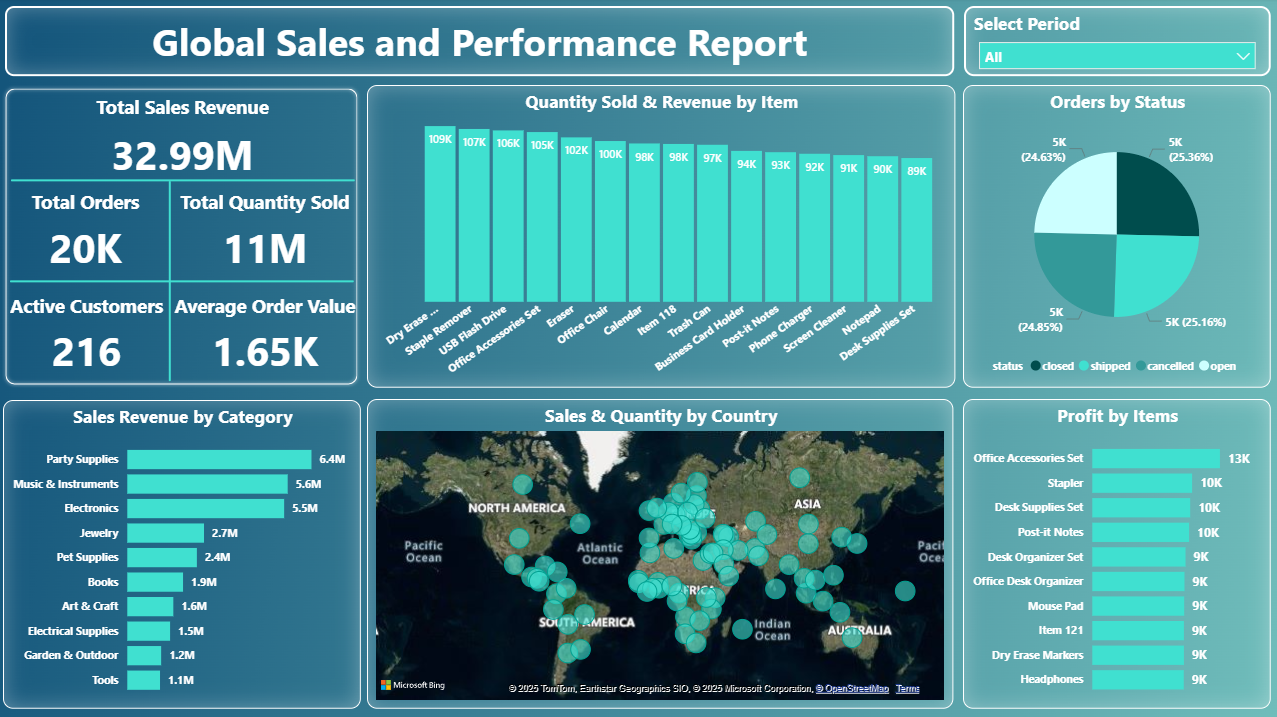

The dashboard page shown, as its layout file describes it:
{"tool":"powerbi","page":{"name":"Page 1","canvas":[1280,720],"ordinal":0},"visuals":[{"type":"card","title":"Total Sales Revenue","fields":{"Values":["Category-Ref.Total Sales Revenue"]},"box":[6,95.8,358.2,94.8],"z":0},{"type":"card","title":"Total Orders","fields":{"Values":["Category-Ref.Number of Orders"]},"box":[5,190.6,166.6,89.8],"z":1000},{"type":"card","title":"Total Quantity Sold","fields":{"Values":["Category-Ref.Total Quantity Sold"]},"box":[171.6,190.6,191.6,89.8],"z":2000},{"type":"card","title":"Active Customers","fields":{"Values":["Category-Ref.Active Customers"]},"box":[6,294.3,166.6,87.8],"z":3000},{"type":"card","title":"Average Order Value","fields":{"Values":["Category-Ref.Average Order Value"]},"box":[171.6,294.3,191.6,87.8],"z":4000},{"type":"clusteredBarChart","title":"Sales Revenue by Category","fields":{"Category":["Category-Ref.cat_name"],"Y":["Category-Ref.Total Sales Revenue"]},"box":[6,401.1,357.2,308.3],"z":5000},{"type":"columnChart","title":"Quantity Sold & Revenue by Item","fields":{"Category":["Store-Items.item_details"],"Y":["Category-Ref.Total Quantity Sold"]},"box":[369.1,86.8,586.6,302.3],"z":6000},{"type":"pieChart","title":"Orders by Status","fields":{"Category":["Sales-Details.status"],"Y":["Category-Ref.Number of Orders"]},"box":[964.1,87.1,306.6,302],"z":7000},{"type":"map","title":"Sales & Quantity by Country","fields":{"Size":["Category-Ref.Total Sales Revenue"],"Category":["Customer-details.customer_country"]},"box":[369.4,399.6,585.4,309],"z":8000},{"type":"textbox","box":[8.1,8.1,947.4,69.5],"z":9000},{"type":"barChart","title":"Profit by Items","fields":{"Y":["Category-Ref.Total profit"],"Category":["Store-Items.item_details"]},"box":[964.1,399.6,306.6,309],"z":10000},{"type":"shape","box":[5,86.8,358.2,302.3],"z":11000},{"type":"shape","box":[14.3,32.2,343,300],"z":13000},{"type":"shape","box":[0,182.7,344.8,199.7],"z":14000},{"type":"shape","box":[13.4,132.5,343,300],"z":15000},{"type":"slicer","title":"Sales Period","fields":{"Values":["DateTable.Sales Period"]},"box":[964.6,8.1,306.2,73.7],"z":15001}]}

Visuals, with their boxes in screenshot pixels (x1, y1, x2, y2), scaled from the page's 1280x720 canvas onto the 1277x717 screenshot:
"Total Sales Revenue" card: rect(6, 95, 363, 190)
"Total Orders" card: rect(5, 190, 171, 279)
"Total Quantity Sold" card: rect(171, 190, 362, 279)
"Active Customers" card: rect(6, 293, 172, 381)
"Average Order Value" card: rect(171, 293, 362, 381)
"Sales Revenue by Category" clusteredBarChart: rect(6, 399, 362, 706)
"Quantity Sold & Revenue by Item" columnChart: rect(368, 86, 953, 387)
"Orders by Status" pieChart: rect(962, 87, 1268, 387)
"Sales & Quantity by Country" map: rect(369, 398, 953, 706)
textbox: rect(8, 8, 953, 77)
"Profit by Items" barChart: rect(962, 398, 1268, 706)
shape: rect(5, 86, 362, 387)
shape: rect(14, 32, 356, 331)
shape: rect(0, 182, 344, 381)
shape: rect(13, 132, 356, 431)
"Sales Period" slicer: rect(962, 8, 1268, 81)
